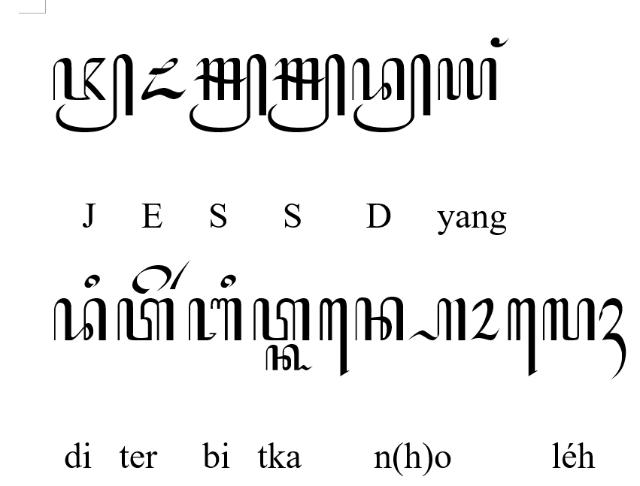-S: (189, 53, 267, 133), (268, 54, 346, 134)
-d: (351, 53, 431, 133)
-j: (52, 53, 134, 133)
E: (140, 57, 186, 101)
_h: (408, 298, 467, 342)
_h1: (598, 298, 626, 380)
_k: (265, 344, 313, 372)
_r1: (169, 260, 191, 290)
b: (188, 299, 242, 344)
d: (53, 298, 107, 342)
e: (132, 264, 172, 296)
e1: (319, 297, 349, 377), (508, 298, 538, 378)
i: (84, 275, 100, 290), (220, 275, 236, 290)
l: (544, 298, 596, 342)
n: (354, 296, 404, 342)
ng: (489, 36, 509, 48)
o: (469, 297, 501, 340)
t: (116, 298, 176, 342), (252, 297, 310, 341)
y: (438, 57, 498, 102)
